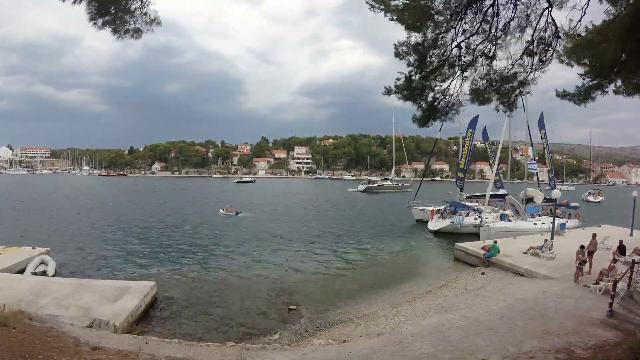Sailboat: (352, 170, 422, 198)
speedboat: (232, 168, 260, 188)
